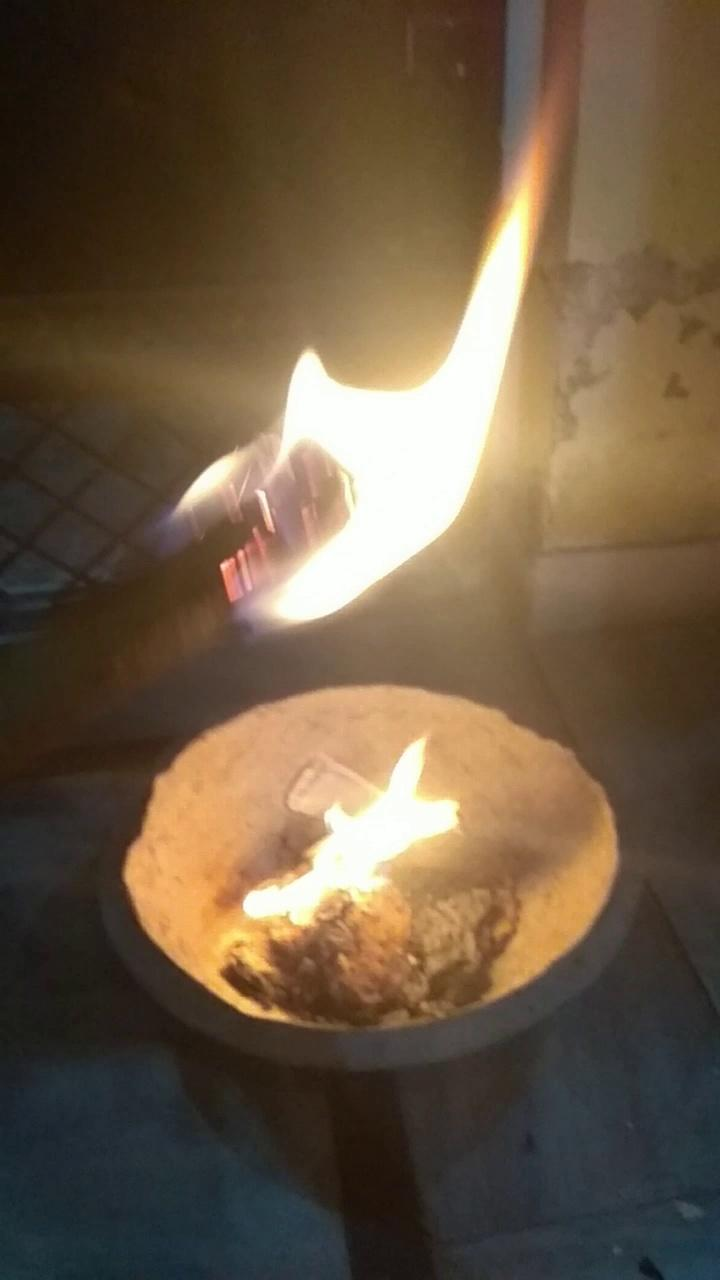fire: (183, 76, 579, 651), (251, 733, 471, 927)
